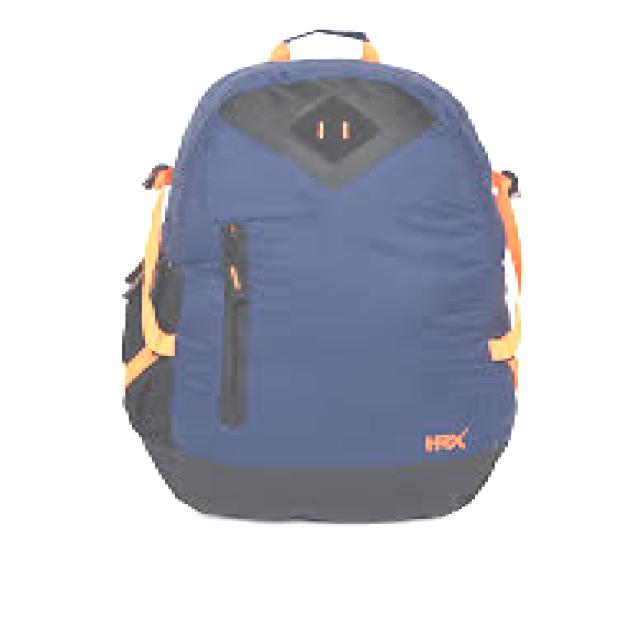backpack: (120, 29, 526, 523)
